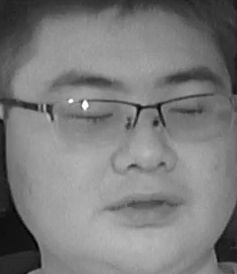blink: (68, 108, 112, 125), (169, 103, 204, 120)
glass: (47, 95, 140, 145), (155, 91, 234, 142)
mouth: (97, 187, 183, 228)
